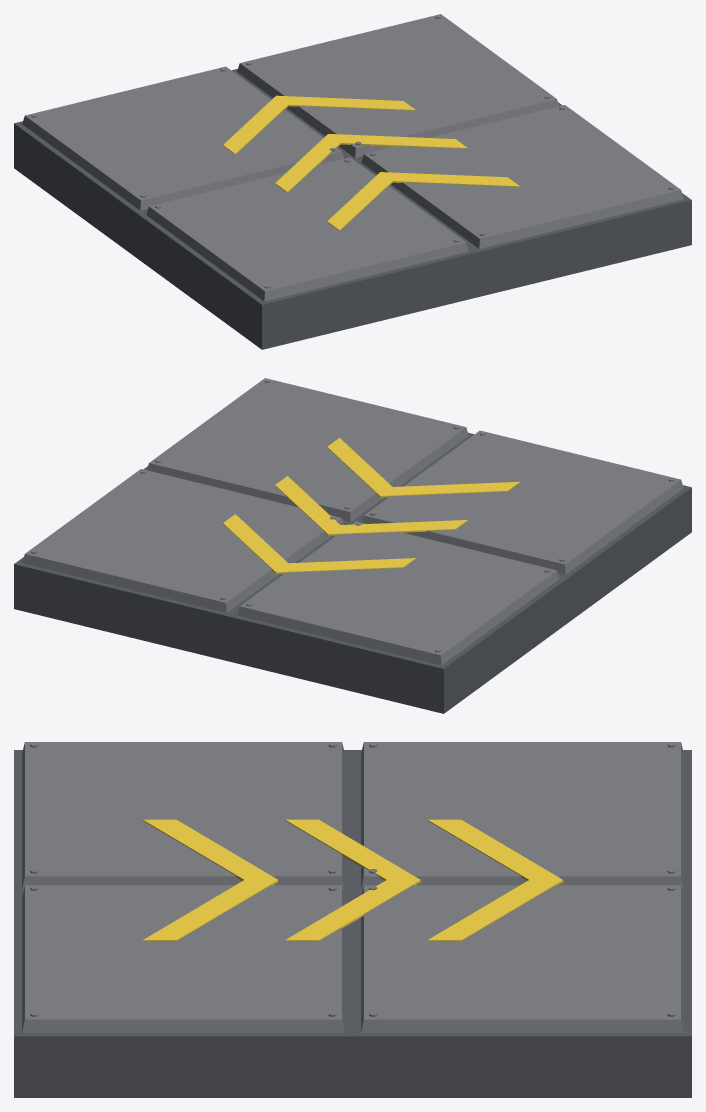
Rendered from SM_Floor_Corridor_Arrow.glb.
The picture shows the model from 3 angles, top to bottom: view 1: azimuth 30°, elevation 25°; view 2: azimuth 150°, elevation 25°; view 3: azimuth 270°, elevation 25°; orthographic projection. The views are drawn at different scales.
Visible parts, largest first — view 1: SM_Floor_Corridor_Arrow; view 2: SM_Floor_Corridor_Arrow; view 3: SM_Floor_Corridor_Arrow.
Boxes of the visible parts, left/top/right/bottom form: SM_Floor_Corridor_Arrow: left=14, top=14, right=691, bottom=349; SM_Floor_Corridor_Arrow: left=14, top=378, right=691, bottom=713; SM_Floor_Corridor_Arrow: left=14, top=742, right=691, bottom=1097.
Bounding box in the file's own units: 2 × 0.246 × 2.
